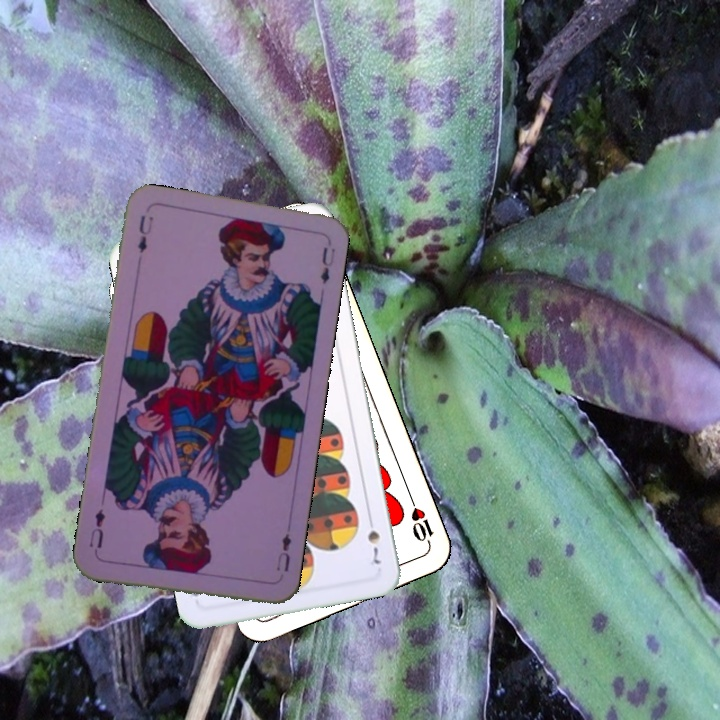EU: (133, 211, 156, 256), (272, 529, 294, 574)
H10: (405, 493, 436, 550)
S7: (363, 511, 383, 567)
